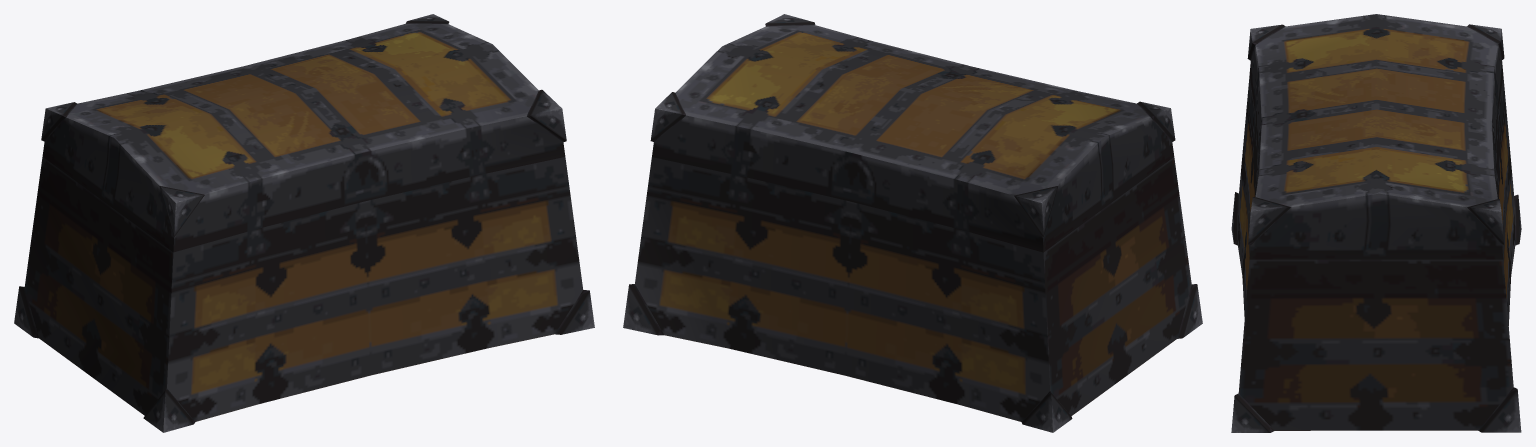
Rendered from chest_stash_shared_01_19b2c232.glb.
3 renders of one model, left to right at view 1: azimuth 30°, elevation 25°; view 2: azimuth 150°, elevation 25°; view 3: azimuth 270°, elevation 25°, orthographic. The views are drawn at different scales.
Size of the model in its own units: 1.89 by 0.9797 by 1.14.
Materials: 1 (1 with a texture image).
